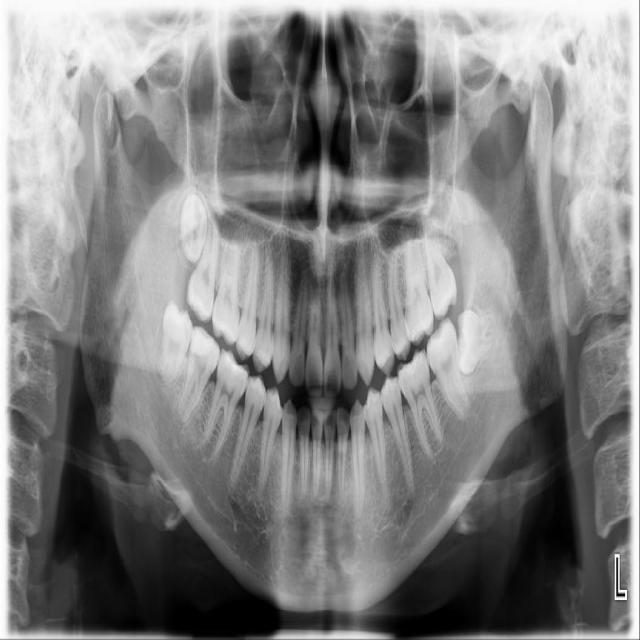3M ESPE Implant: (177, 194, 208, 262)
73: (570, 584, 576, 596)
BioHorizons Implant: (422, 217, 461, 321)
Biomet 3i Implant: (455, 310, 495, 377)
Blue Sky Bio Implant: (419, 317, 473, 423)
Caries: (185, 217, 221, 323)
Implant: (176, 326, 225, 425)
Keystone Dental Implant: (158, 301, 195, 385)
